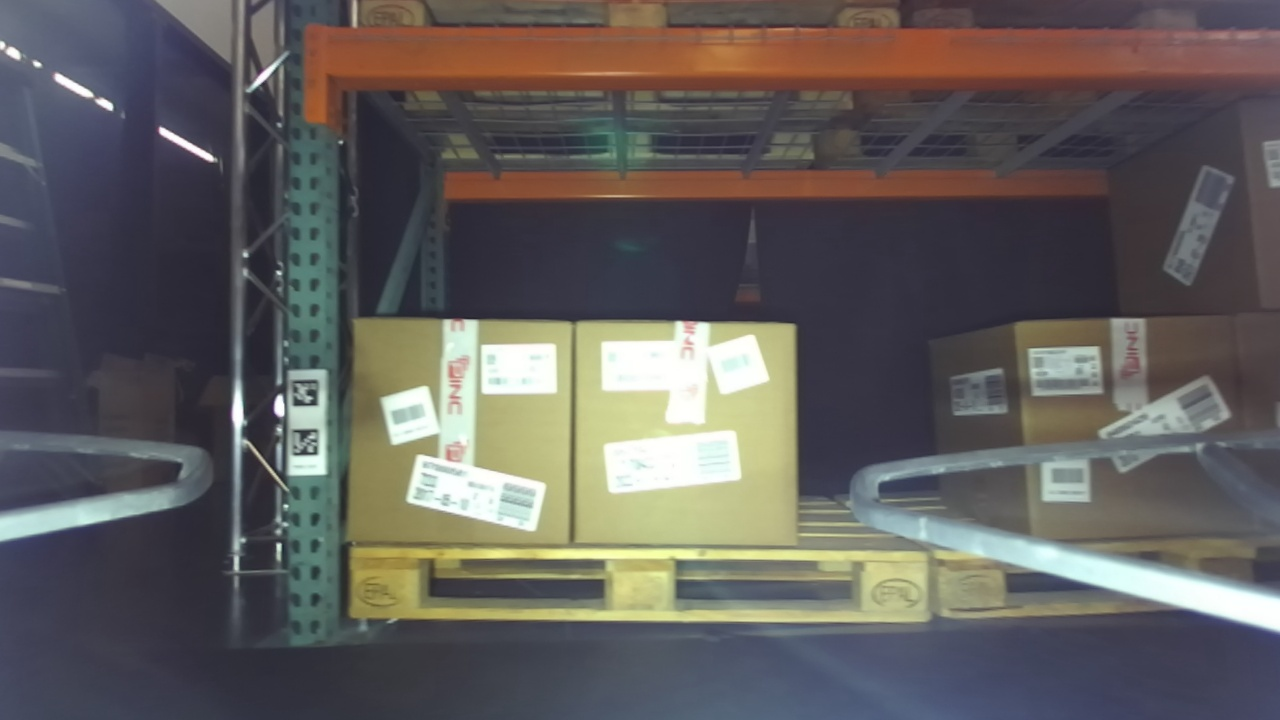box: (1002, 302, 1268, 561), (552, 297, 803, 558), (332, 298, 584, 553)
